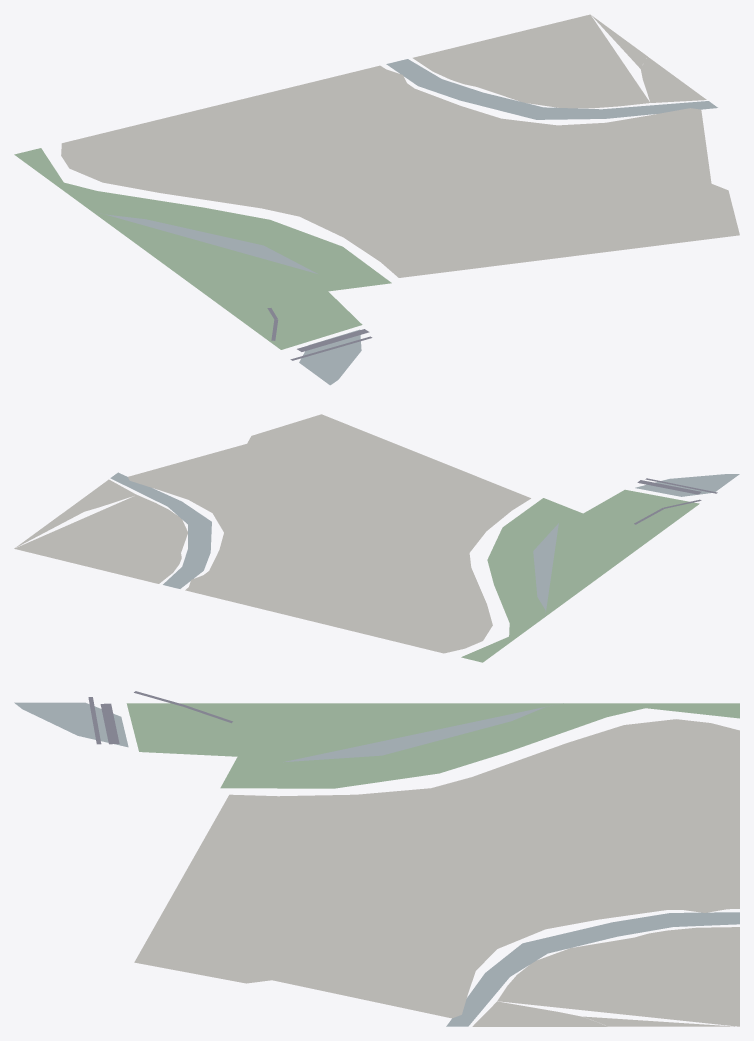
Rendered from 114_116_mid.glb.
3 views of the same model, one above another, from view 1: azimuth 30°, elevation 25°; view 2: azimuth 150°, elevation 25°; view 3: azimuth 270°, elevation 25° (orthographic). The views are drawn at different scales.
Bounding box in the file's own units: 505 × 7.07 × 475.
